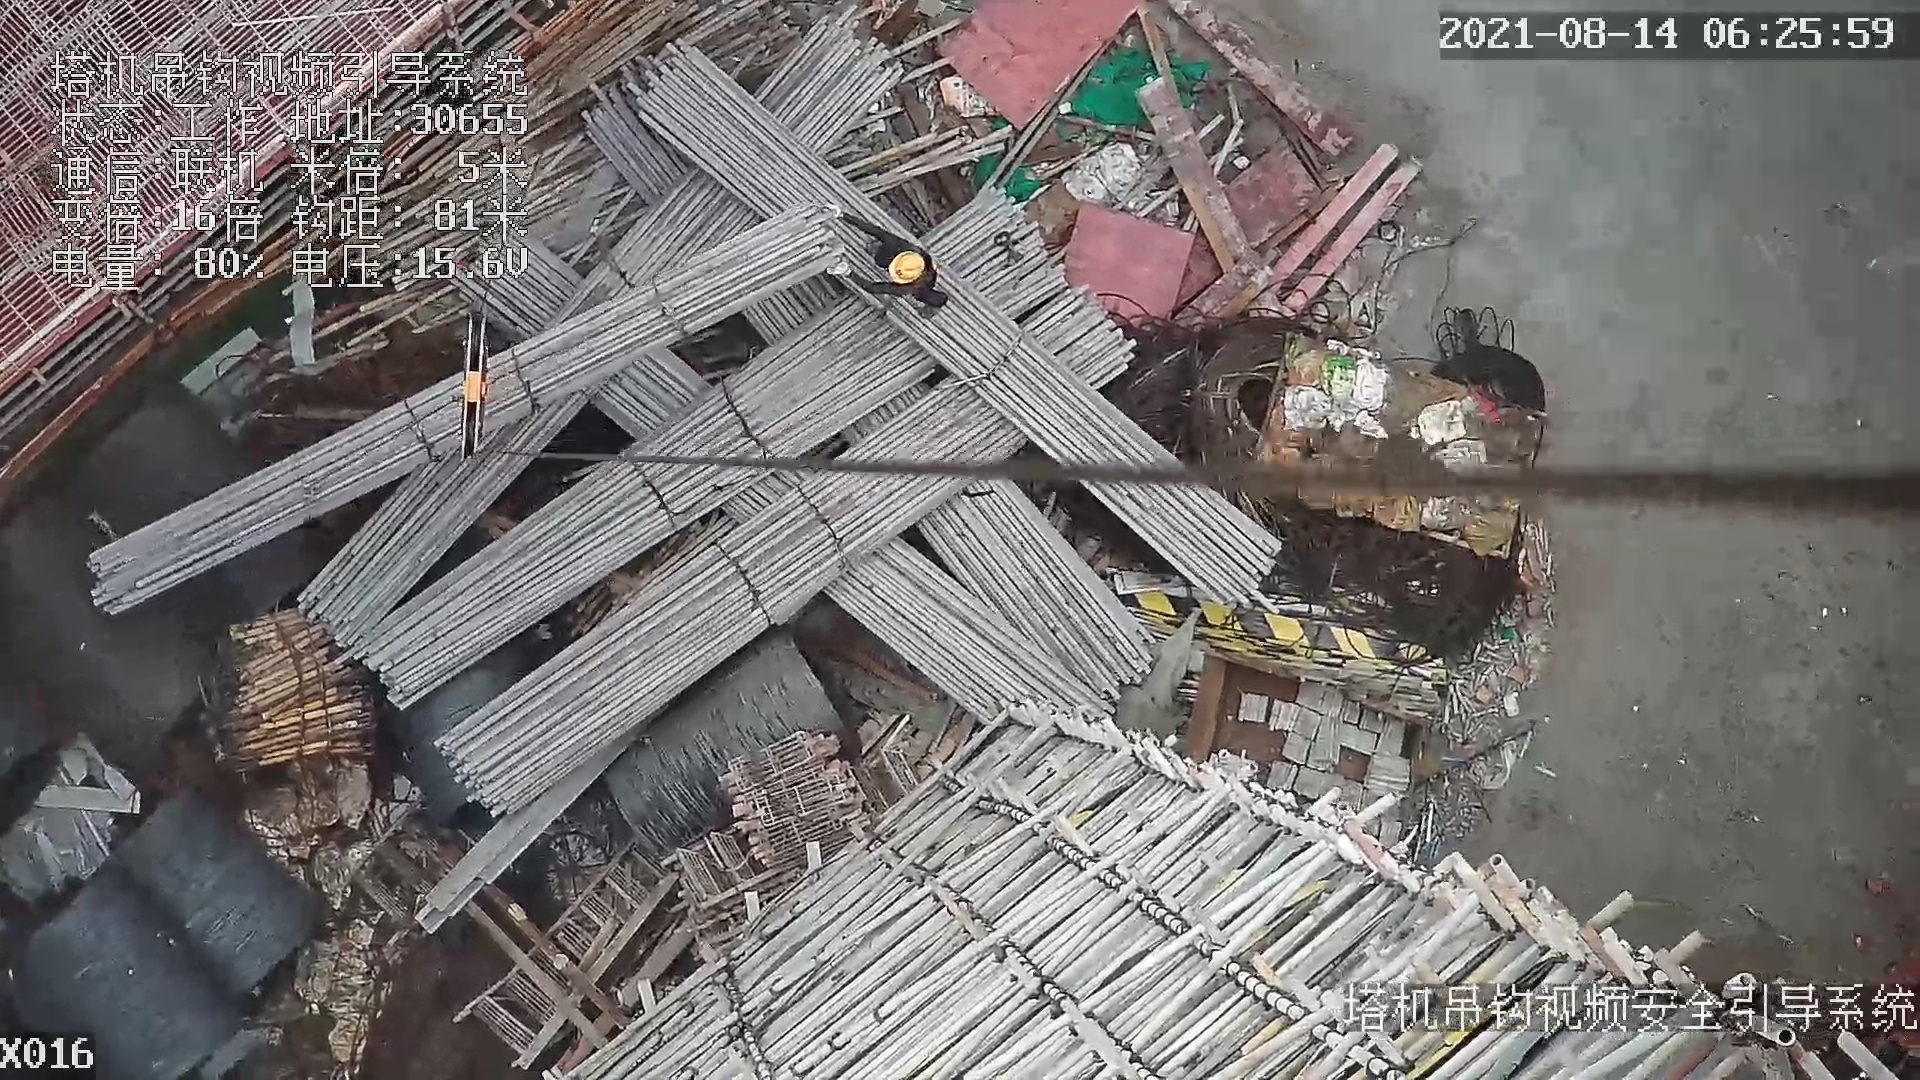helmet: (886, 248, 929, 286)
hook: (455, 313, 495, 459)
person: (823, 206, 956, 326)
